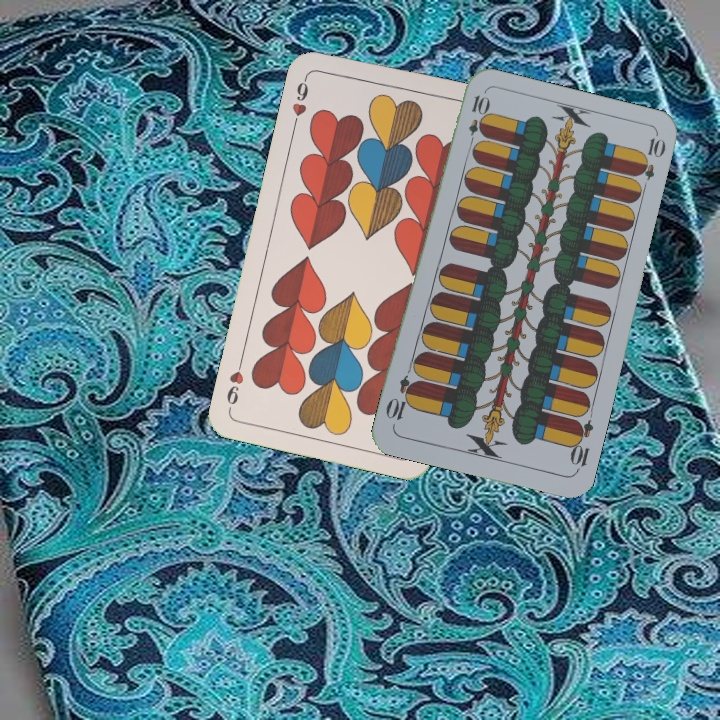E10: (566, 416, 596, 475), (464, 91, 489, 150)
H9: (288, 71, 311, 130)
